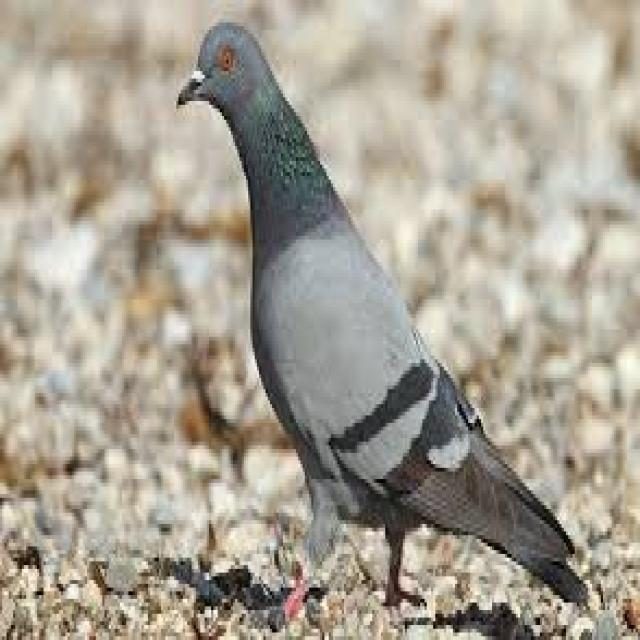pigeon: (168, 11, 592, 619)
